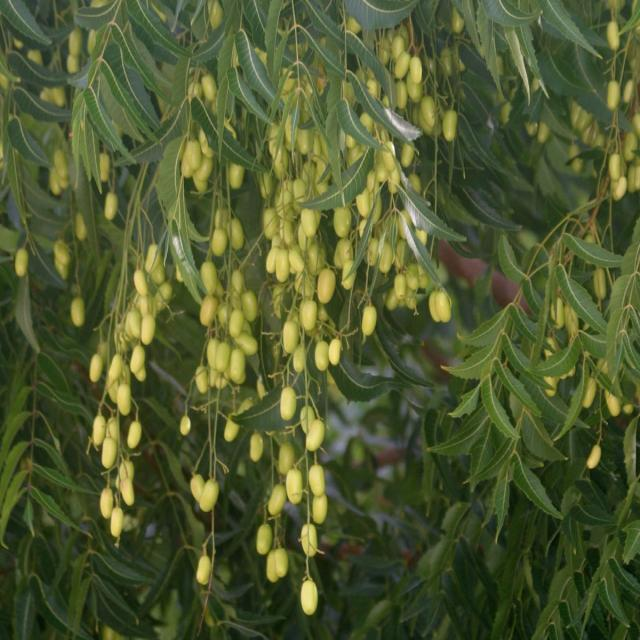Medicinal-Neem: (15, 0, 448, 617), (455, 23, 640, 639)
